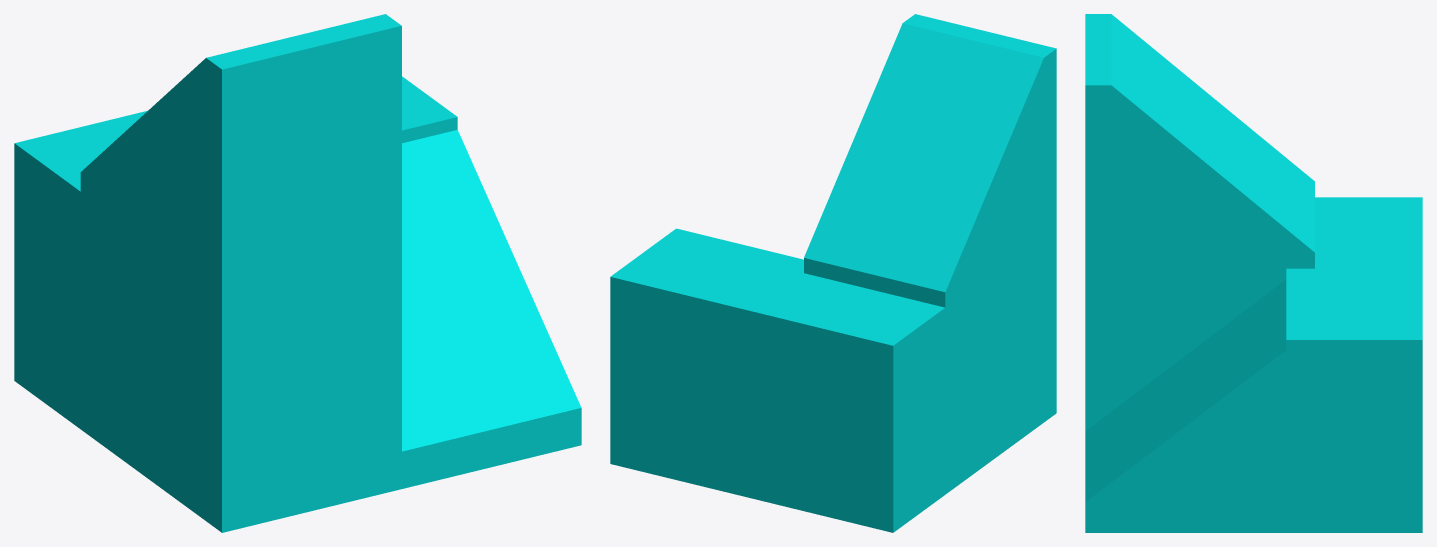
Rendered from SM_Bld_Stairs_Corner_01_Collision.fbx.
3 renders of one model, left to right at view 1: azimuth 30°, elevation 25°; view 2: azimuth 150°, elevation 25°; view 3: azimuth 270°, elevation 25°, orthographic. The views are drawn at different scales.
Visible parts, largest first — view 1: SM_Bld_Stairs_Corner_01_Collision; view 2: SM_Bld_Stairs_Corner_01_Collision; view 3: SM_Bld_Stairs_Corner_01_Collision.
Boxes of the visible parts, bbox=[...] form: SM_Bld_Stairs_Corner_01_Collision: bbox=[14, 14, 581, 532]; SM_Bld_Stairs_Corner_01_Collision: bbox=[610, 14, 1056, 532]; SM_Bld_Stairs_Corner_01_Collision: bbox=[1085, 14, 1422, 532].
Size of the model in its own units: 250 by 308 by 250.
